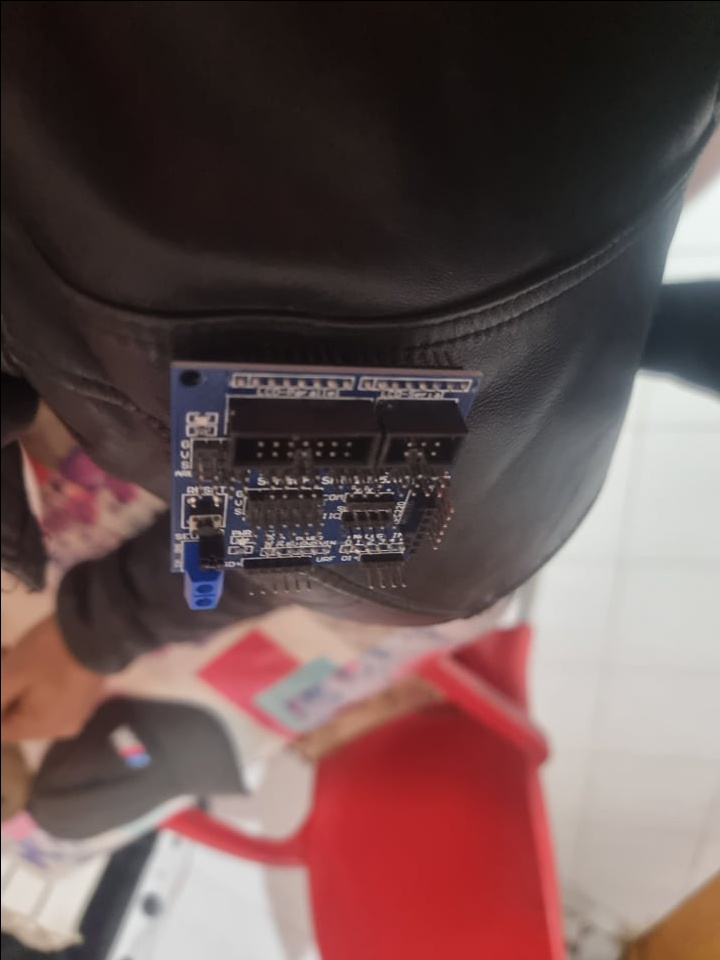5V EXPANSION: (165, 359, 480, 610)
